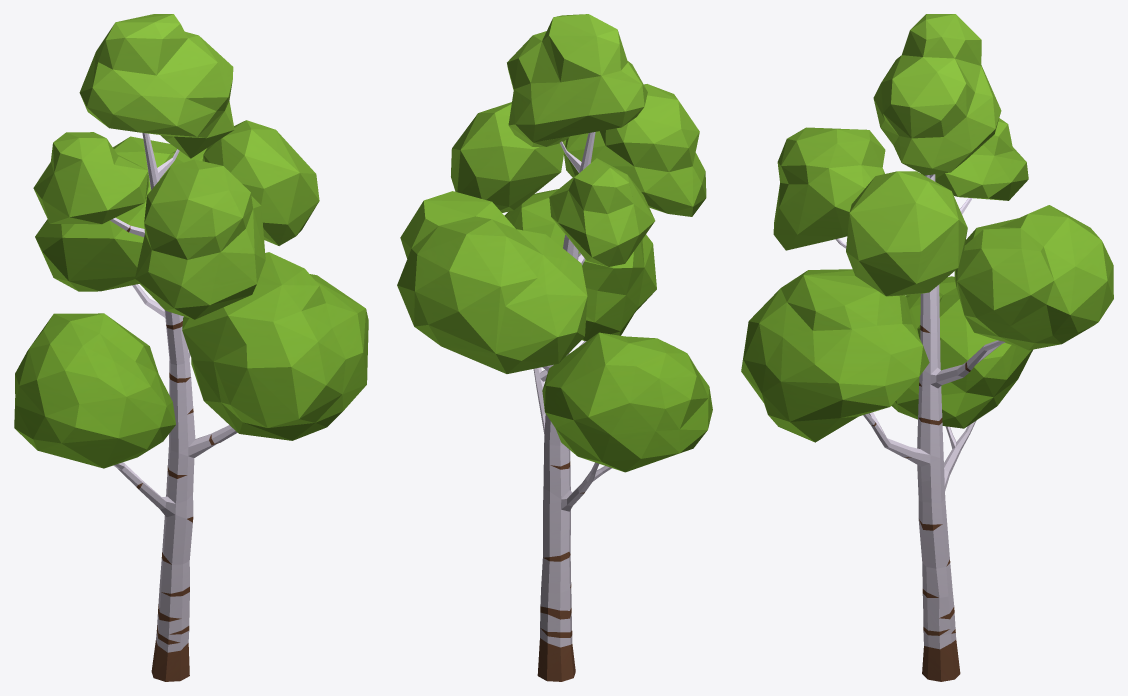
The model's file is Tree_Birch_Green_01.fbx.
3 views of the same model, side by side, from view 1: azimuth 30°, elevation 25°; view 2: azimuth 150°, elevation 25°; view 3: azimuth 270°, elevation 25° (orthographic). The views are drawn at different scales.
Parts seen in each view (by area): view 1: Tree_Birch_Green_01; view 2: Tree_Birch_Green_01; view 3: Tree_Birch_Green_01.
Part boxes in pixels (bbox=[...]): Tree_Birch_Green_01: bbox=[14, 14, 368, 681]; Tree_Birch_Green_01: bbox=[397, 14, 712, 681]; Tree_Birch_Green_01: bbox=[741, 14, 1113, 681].
Bounding box in the file's own units: 334 × 725 × 381.
